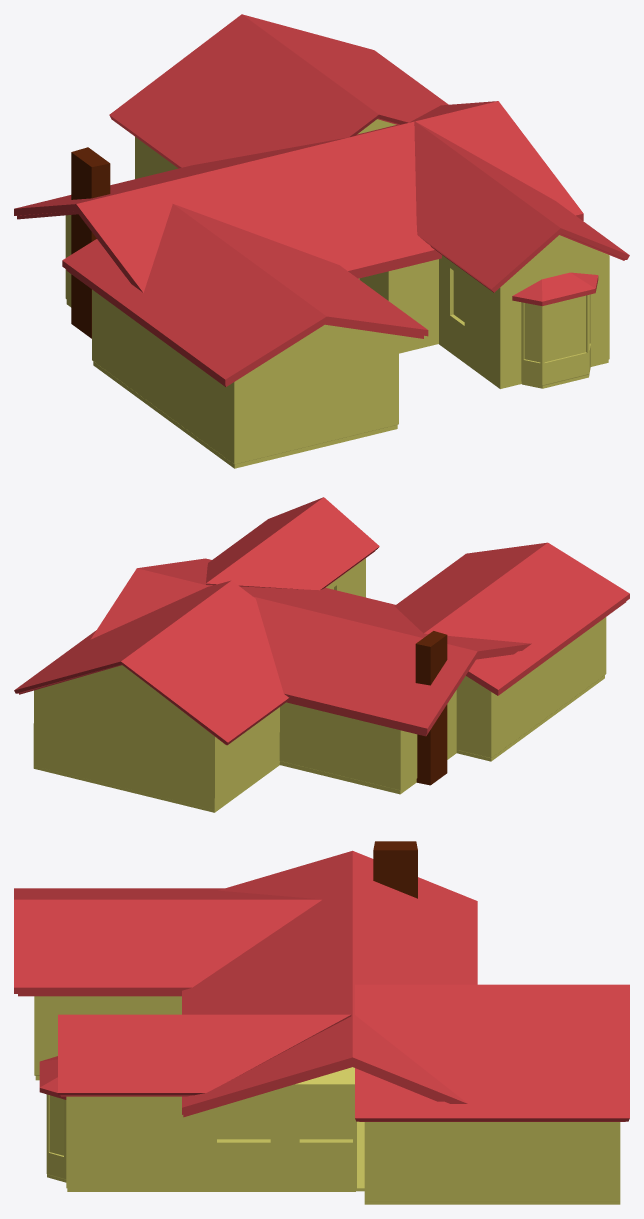
Rendered from DDHome.fbx.
3 views of the same model, one above another, from view 1: azimuth 30°, elevation 25°; view 2: azimuth 150°, elevation 25°; view 3: azimuth 270°, elevation 25° (orthographic). The views are drawn at different scales.
Visible parts, largest first — view 1: Main Roof, Master Bedroom Roof, Garage Roof, Garage.001, Bedroom Roof, Front Room, Front Bedroom Window, Room, Chimney, Bay Window Roof, MasterBedroom; view 2: Main Roof, MasterBedroom, Master Bedroom Roof, Garage Roof, Bedroom Roof, Garage.001, Room.001, Chimney, Front Room; view 3: Main Roof, Master Bedroom Roof, Front Room, Garage Roof, MasterBedroom, Bedroom Roof, Garage.001, Chimney, Front Bedroom Window, Room, Bay Window Roof.
Boxes of the visible parts, x1,y1,x2,y2 form: Main Roof: (14, 101, 583, 292); Master Bedroom Roof: (109, 14, 448, 168); Garage Roof: (62, 204, 428, 386); Garage.001: (92, 289, 398, 468); Bedroom Roof: (414, 121, 629, 292); Front Room: (439, 235, 609, 388); Front Bedroom Window: (521, 294, 590, 388); Room: (359, 259, 438, 353); Chimney: (71, 147, 110, 338); Bay Window Roof: (512, 272, 598, 306); MasterBedroom: (135, 119, 396, 178); Main Roof: (90, 558, 531, 736); MasterBedroom: (33, 665, 279, 812); Master Bedroom Roof: (14, 580, 288, 745); Garage Roof: (394, 542, 629, 695); Bedroom Roof: (206, 497, 379, 590); Garage.001: (456, 617, 606, 761); Room.001: (279, 690, 456, 794); Chimney: (415, 631, 447, 785); Front Room: (326, 558, 365, 597); Main Roof: (182, 850, 477, 1117); Master Bedroom Roof: (355, 984, 629, 1121); Front Room: (66, 1067, 356, 1191); Garage Roof: (14, 888, 322, 996); MasterBedroom: (364, 1122, 620, 1204); Bedroom Roof: (58, 1014, 351, 1096); Garage.001: (34, 996, 181, 1080); Chimney: (373, 841, 417, 898); Front Bedroom Window: (46, 1094, 66, 1182); Room: (190, 1121, 364, 1191); Bay Window Roof: (39, 1056, 66, 1099).
Size of the model in its own units: 974 by 351 by 1135.
